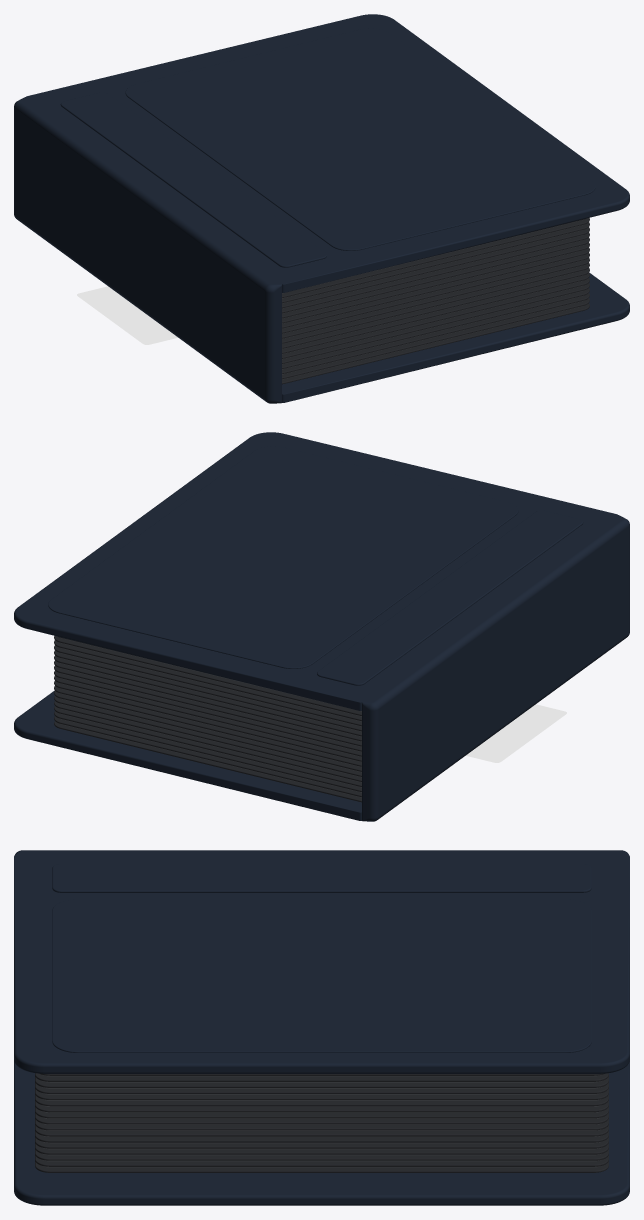
File: album-20h.glb
3 views of the same model, one above another, from view 1: azimuth 30°, elevation 25°; view 2: azimuth 150°, elevation 25°; view 3: azimuth 270°, elevation 25° (orthographic). The views are drawn at different scales.
Parts seen in each view (by area): view 1: Tapa_Panel, Lomo, Tapa_Malla, Tapa_Banda, Contratapa, Plantilla_Carta_F, Hoja_3_Losa, Hoja_18_Losa, Hoja_4_Losa, Hoja_19_Losa, Hoja_5_Losa, Hoja_13_Losa (+12 smaller); view 2: Tapa_Panel, Lomo, Tapa_Malla, Tapa_Banda, Contratapa, Plantilla_Carta_F, Hoja_3_Losa, Hoja_18_Losa, Hoja_4_Losa, Hoja_19_Losa, Hoja_5_Losa, Hoja_13_Losa (+12 smaller); view 3: Tapa_Panel, Tapa_Malla, Contratapa, Tapa_Banda, Hoja_16_Losa, Hoja_11_Losa, Hoja_17_Losa, Hoja_10_Losa, Hoja_12_Losa, Hoja_13_Losa, Hoja_15_Losa, Hoja_9_Losa (+10 smaller).
Boxes of the visible parts, x1=… form: Tapa_Panel: x1=125, y1=28, x2=595, y2=250; Lomo: x1=14, y1=97, x2=281, y2=403; Tapa_Malla: x1=26, y1=14, x2=629, y2=292; Tapa_Banda: x1=60, y1=92, x2=326, y2=267; Contratapa: x1=282, y1=272, x2=629, y2=402; Plantilla_Carta_F: x1=77, y1=286, x2=177, y2=344; Hoja_3_Losa: x1=282, y1=222, x2=589, y2=303; Hoja_18_Losa: x1=282, y1=298, x2=589, y2=379; Hoja_4_Losa: x1=282, y1=227, x2=589, y2=308; Hoja_19_Losa: x1=282, y1=303, x2=589, y2=384; Hoja_5_Losa: x1=282, y1=232, x2=589, y2=313; Hoja_13_Losa: x1=282, y1=273, x2=589, y2=353; Tapa_Panel: x1=48, y1=446, x2=518, y2=668; Lomo: x1=362, y1=515, x2=629, y2=821; Tapa_Malla: x1=14, y1=432, x2=617, y2=710; Tapa_Banda: x1=317, y1=510, x2=583, y2=685; Contratapa: x1=14, y1=690, x2=361, y2=820; Plantilla_Carta_F: x1=466, y1=704, x2=566, y2=762; Hoja_3_Losa: x1=54, y1=640, x2=361, y2=721; Hoja_18_Losa: x1=54, y1=716, x2=361, y2=797; Hoja_4_Losa: x1=54, y1=645, x2=361, y2=726; Hoja_19_Losa: x1=54, y1=721, x2=361, y2=802; Hoja_5_Losa: x1=54, y1=650, x2=361, y2=731; Hoja_13_Losa: x1=54, y1=691, x2=361, y2=771; Tapa_Panel: x1=52, y1=899, x2=591, y2=1052; Tapa_Malla: x1=14, y1=856, x2=629, y2=1073; Contratapa: x1=14, y1=1060, x2=629, y2=1205; Tapa_Banda: x1=52, y1=864, x2=591, y2=892; Hoja_16_Losa: x1=35, y1=1142, x2=608, y2=1154; Hoja_11_Losa: x1=35, y1=1112, x2=608, y2=1124; Hoja_17_Losa: x1=35, y1=1149, x2=608, y2=1160; Hoja_10_Losa: x1=35, y1=1106, x2=608, y2=1118; Hoja_12_Losa: x1=35, y1=1118, x2=608, y2=1130; Hoja_13_Losa: x1=35, y1=1124, x2=608, y2=1136; Hoja_15_Losa: x1=35, y1=1136, x2=608, y2=1148; Hoja_9_Losa: x1=35, y1=1100, x2=608, y2=1112.
Bounding box in the file's own units: 0.2895 × 0.0832 × 0.322.
